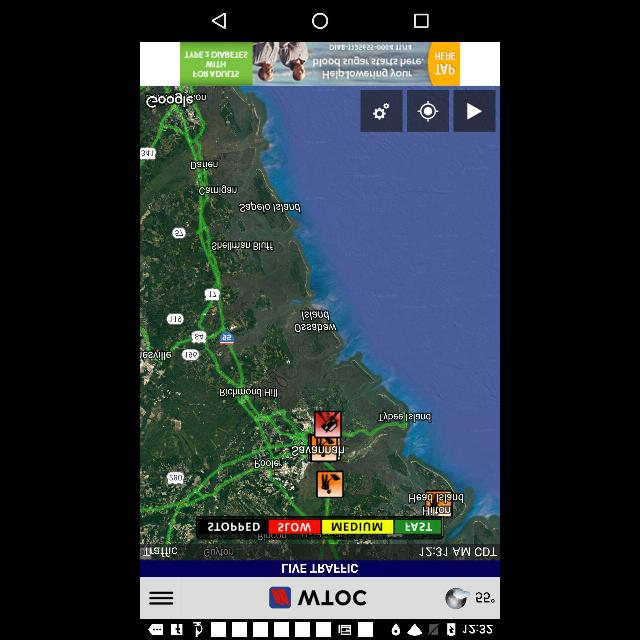icon: (416, 98, 439, 124), (149, 592, 173, 604), (312, 12, 328, 30), (212, 12, 226, 30), (414, 14, 428, 28)
image: (180, 42, 460, 86), (444, 588, 470, 608), (269, 586, 291, 608)
map: (140, 86, 500, 544)
panel: (140, 1, 500, 42)
text: (298, 590, 366, 606), (419, 548, 496, 556), (282, 564, 358, 572), (143, 548, 177, 556), (476, 592, 494, 602)
toolbar: (140, 576, 500, 618)
uppertaskbar: (140, 620, 500, 640)
